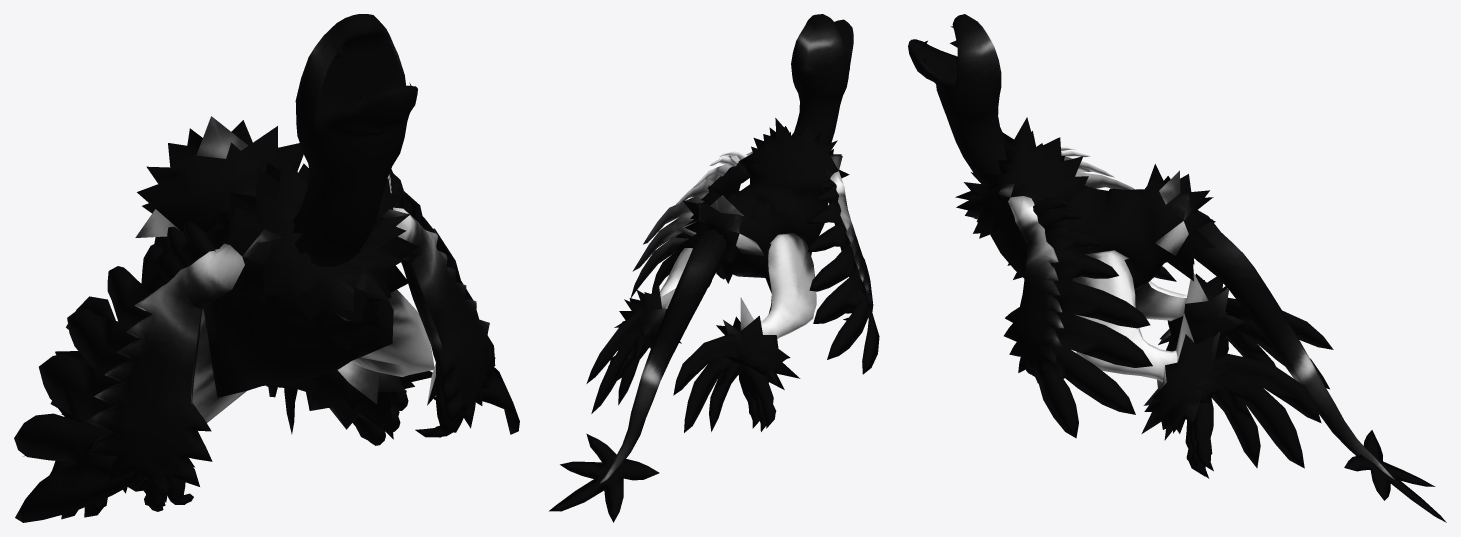
File: 0275_daniao01.glb
The picture shows the model from 3 angles, left to right: view 1: azimuth 30°, elevation 25°; view 2: azimuth 150°, elevation 25°; view 3: azimuth 270°, elevation 25°; orthographic projection. The views are drawn at different scales.
Size of the model in its own units: 1.38 by 2.07 by 2.2.
Materials: 1 (1 with a texture image).
